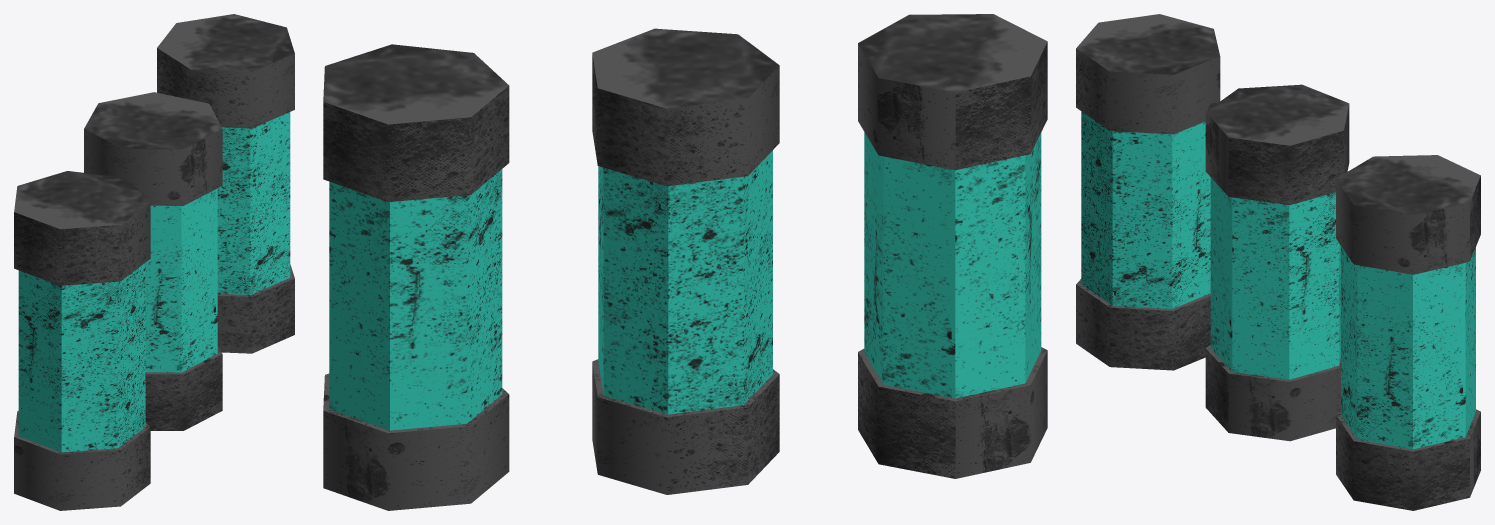
Rendered from stasisPods.FBX.
3 renders of one model, left to right at view 1: azimuth 30°, elevation 25°; view 2: azimuth 150°, elevation 25°; view 3: azimuth 270°, elevation 25°, orthographic. The views are drawn at different scales.
Parts seen in each view (by area): view 1: Cylinder026, Cylinder024, Cylinder025; view 2: Cylinder026, Cylinder025, Cylinder024; view 3: Cylinder024, Cylinder025, Cylinder026.
Boxes of the visible parts, x1,y1,x2,y2 form: Cylinder026: (14,171,150,510); Cylinder024: (157,14,294,353); Cylinder025: (84,92,222,430); Cylinder026: (858,14,1047,478); Cylinder025: (592,28,779,494); Cylinder024: (323,44,509,510); Cylinder024: (1336,155,1480,510); Cylinder025: (1205,84,1349,441); Cylinder026: (1076,14,1220,370).
Bounding box in the file's own units: 145 × 99.33 × 123.
Materials: 1 (1 with a texture image).
